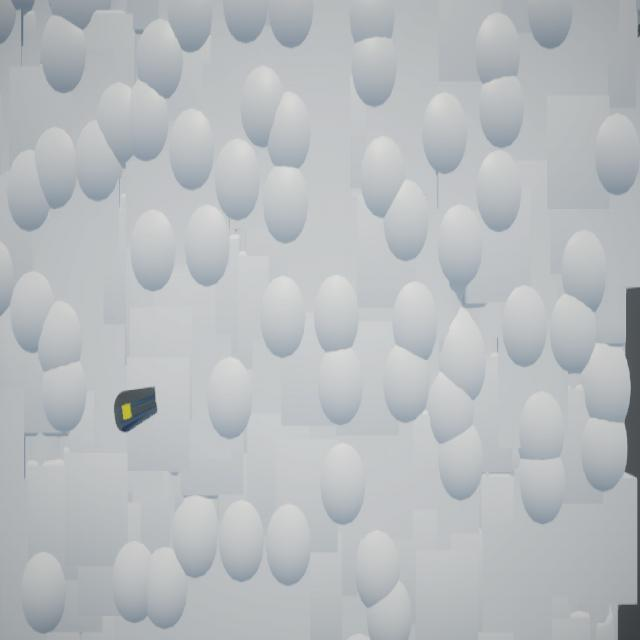handle_folk: (115, 388, 159, 434)
